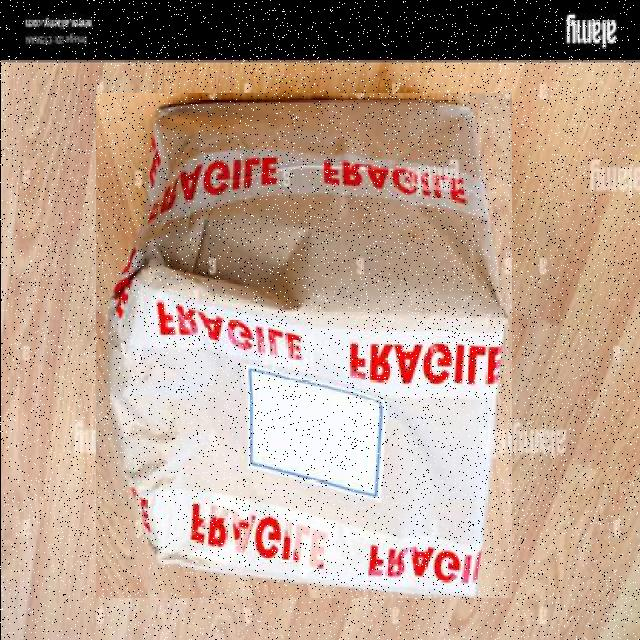defect: (95, 92, 511, 597)
